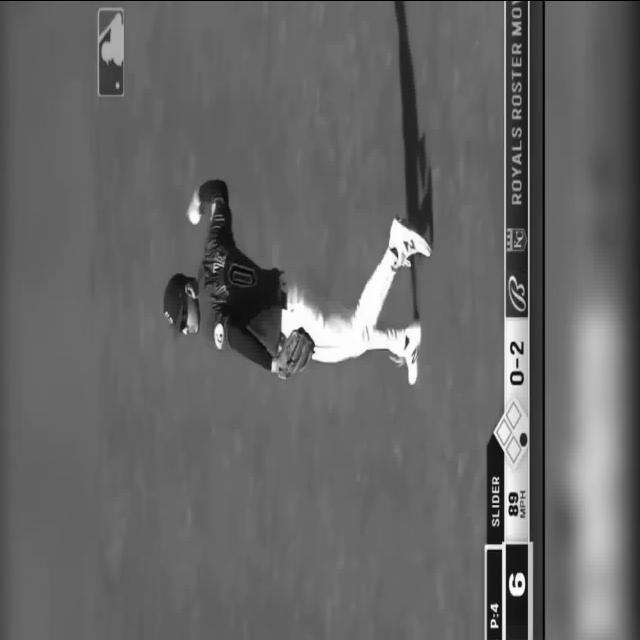baseball: (187, 189, 203, 225)
baseball_glove: (276, 326, 316, 380)
shoe: (388, 216, 432, 270), (389, 319, 422, 385)
